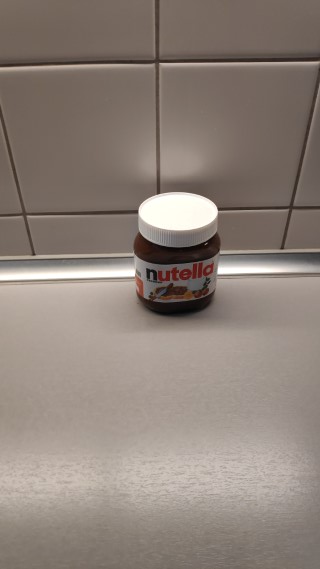nutella: (131, 190, 222, 318)
